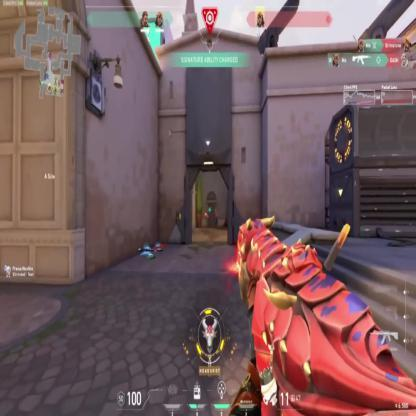enemy: (214, 208, 218, 228)
enemy_head: (214, 209, 218, 214)
